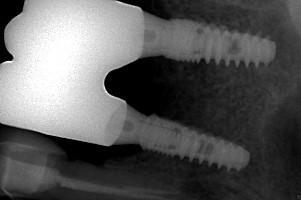Furcation Involvement: (182, 170, 222, 200)
